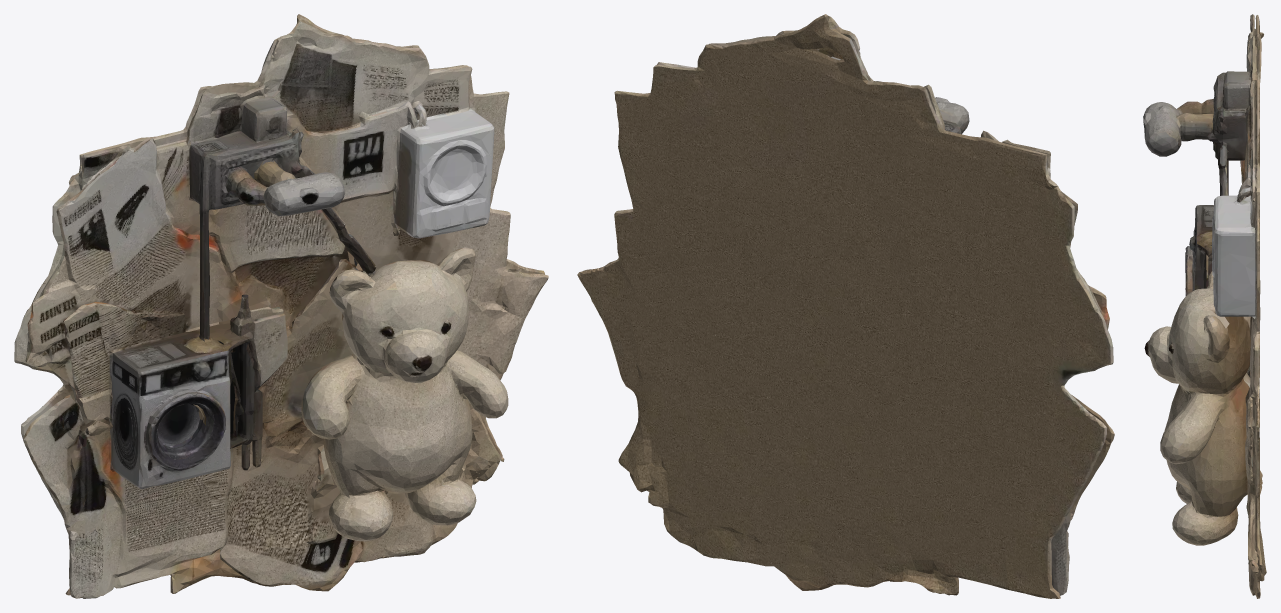
Rendered from chest (34).glb.
The picture shows the model from 3 angles, left to right: view 1: azimuth 30°, elevation 25°; view 2: azimuth 150°, elevation 25°; view 3: azimuth 270°, elevation 25°; orthographic projection. The views are drawn at different scales.
Parts seen in each view (by area): view 1: Hy21_Mesh.obj; view 2: Hy21_Mesh.obj; view 3: Hy21_Mesh.obj.
Part boxes in pixels (box(x1,y1,x2,y2)): Hy21_Mesh.obj: box(14, 14, 548, 598); Hy21_Mesh.obj: box(577, 14, 1114, 598); Hy21_Mesh.obj: box(1143, 14, 1266, 598).
Bounding box in the file's own units: 1.87 × 1.95 × 0.4186.
Materials: 1 (1 with a texture image).
